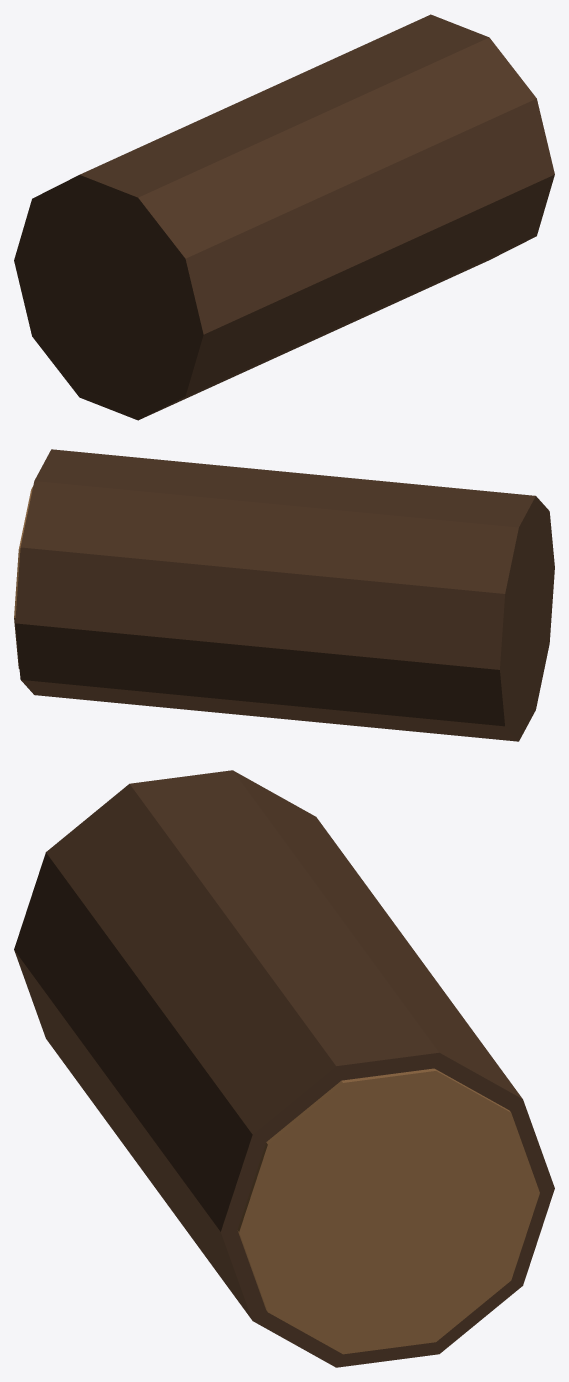
Rendered from SM_GZ_item_oak_log.fbx.
3 views of the same model, one above another, from view 1: azimuth 30°, elevation 25°; view 2: azimuth 150°, elevation 25°; view 3: azimuth 270°, elevation 25° (orthographic). The views are drawn at different scales.
Parts seen in each view (by area): view 1: SM_GZ_item_oak_log; view 2: SM_GZ_item_oak_log; view 3: SM_GZ_item_oak_log.
Part boxes in pixels (x1,y1,x2,y2): SM_GZ_item_oak_log: [14, 14, 554, 420]; SM_GZ_item_oak_log: [14, 449, 554, 741]; SM_GZ_item_oak_log: [14, 770, 554, 1367].
Bounding box in the file's own units: 132 × 57.06 × 92.78.
